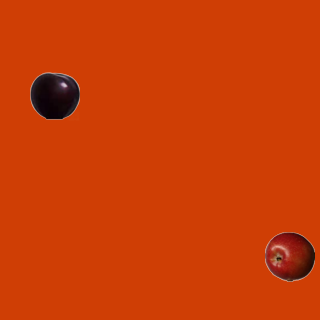Apple Braeburn: (264, 231, 314, 281)
Cherry Wax Black: (29, 70, 79, 120)
